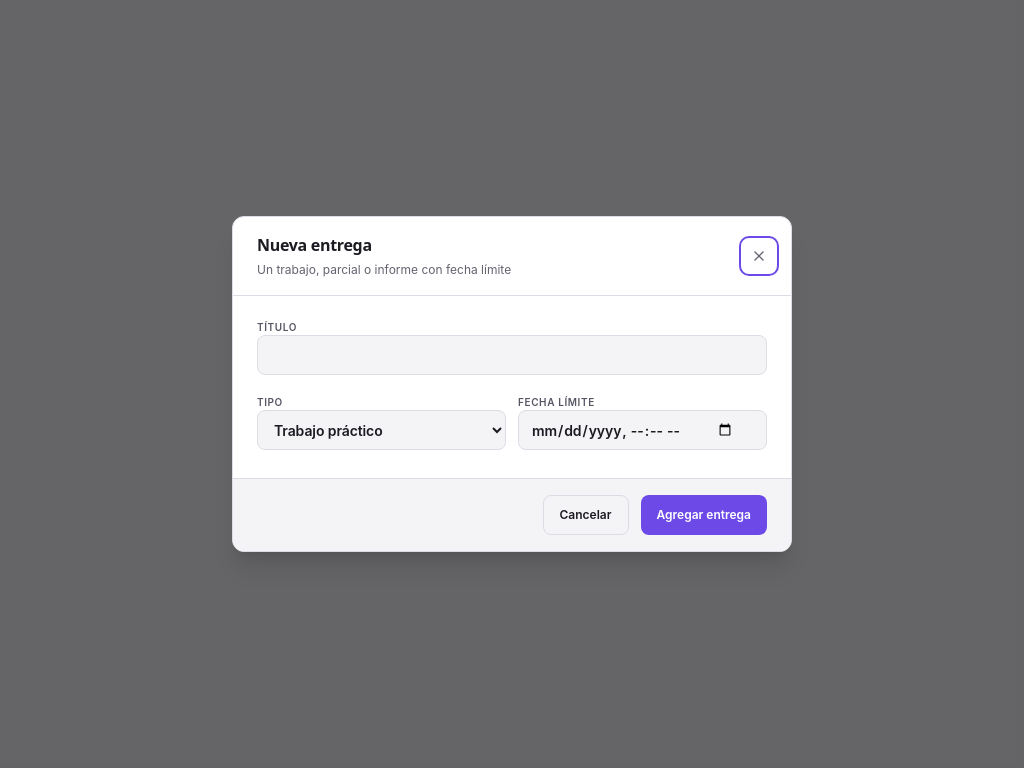
Test: NuevaEntregaModal (design node HE9Wn — reused for create AND edit, spec: "Editing MUST reuse the 'Nueva entrega' form") › does not submit when required fields are missing
Click the button "Agregar entrega" at (704,515), box [640,495,767,535]
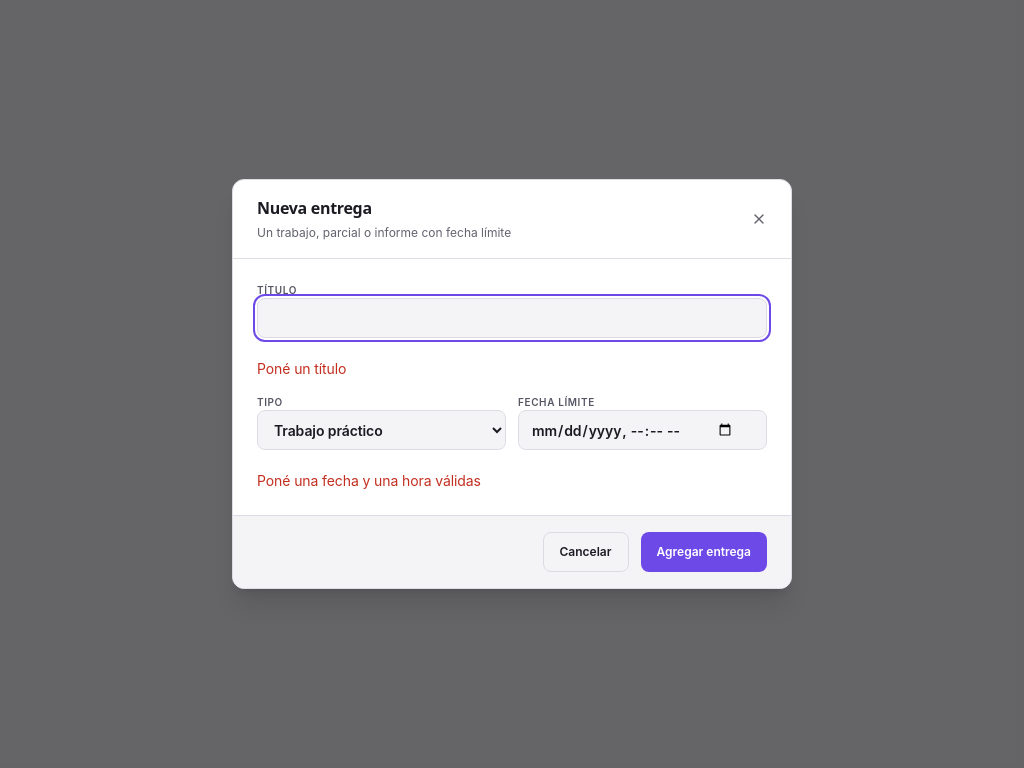
Result: the text "Poné un título" is shown at [257,360,346,377]
